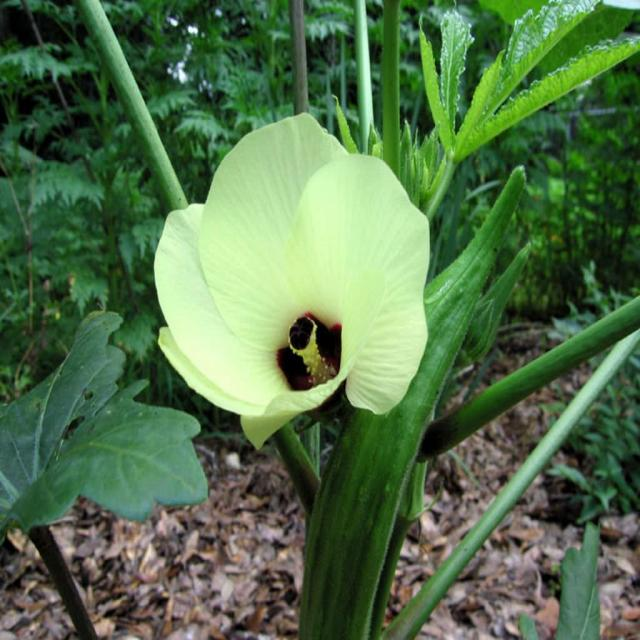organic waste: (148, 114, 436, 440)
